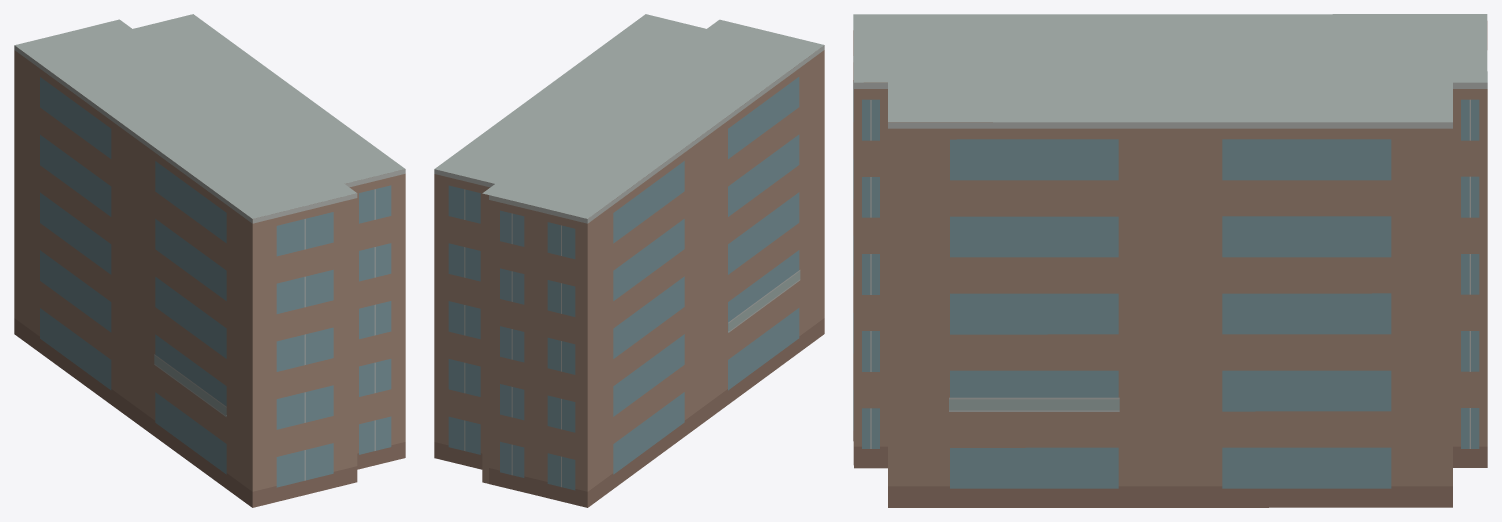
The model's file is survey-upis-32613482.glb.
3 views of the same model, side by side, from view 1: azimuth 30°, elevation 25°; view 2: azimuth 150°, elevation 25°; view 3: azimuth 270°, elevation 25° (orthographic). The views are drawn at different scales.
Parts seen in each view (by area): view 1: survey-upis-32613482.tmp; view 2: survey-upis-32613482.tmp; view 3: survey-upis-32613482.tmp.
Part boxes in pixels (x1=…): survey-upis-32613482.tmp: x1=14, y1=14, x2=405, y2=507; survey-upis-32613482.tmp: x1=434, y1=14, x2=824, y2=507; survey-upis-32613482.tmp: x1=853, y1=14, x2=1487, y2=507.
Bounding box in the file's own units: 9.01 × 14.85 × 22.16.
